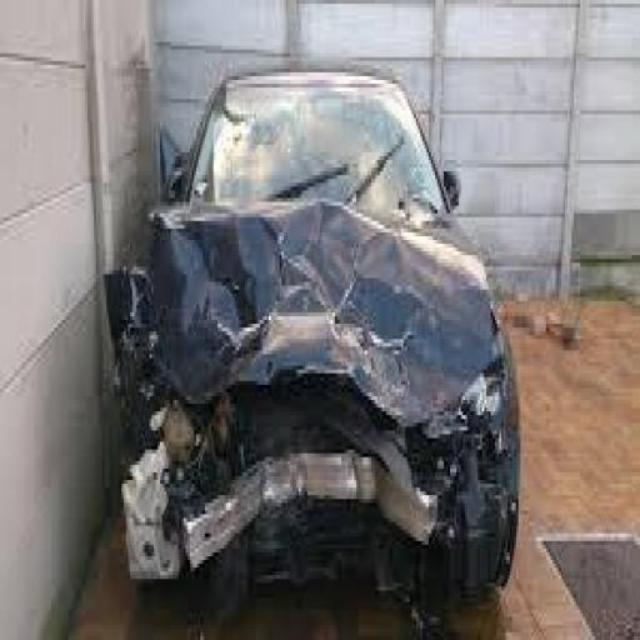crash: (103, 134, 524, 621)
